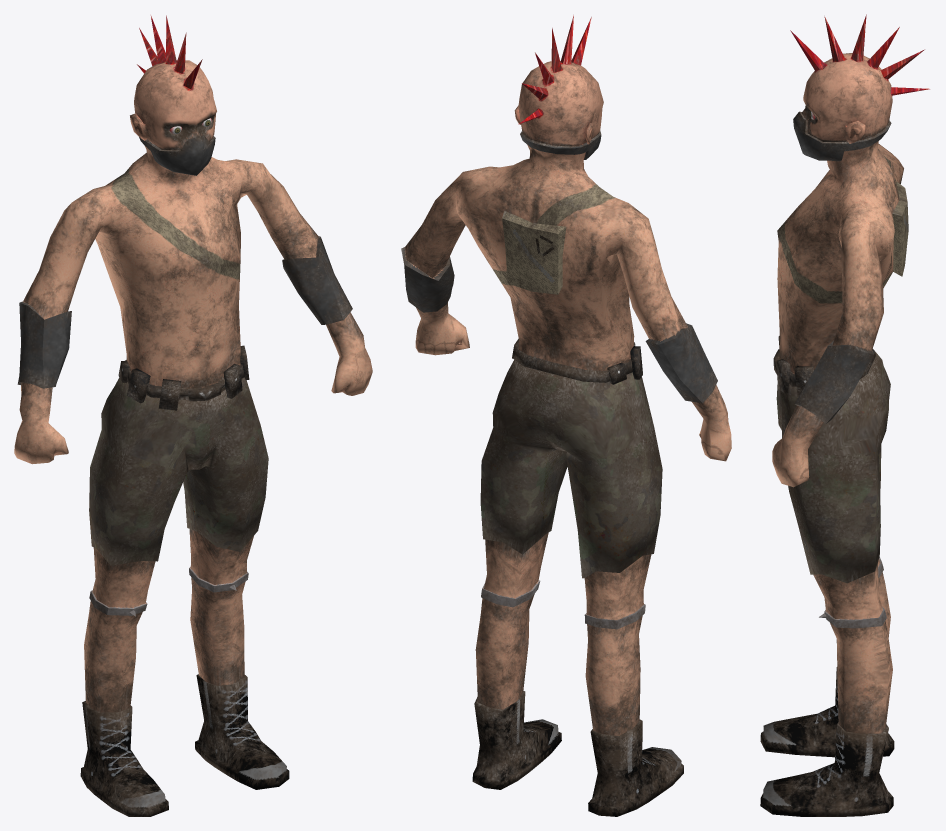
Rendered from Anim_idle_npc2.0033.obj.
3 renders of one model, left to right at view 1: azimuth 30°, elevation 25°; view 2: azimuth 150°, elevation 25°; view 3: azimuth 270°, elevation 25°, orthographic.
Parts seen in each view (by area): view 1: polySurface1; view 2: polySurface1; view 3: polySurface1.
Boxes of the visible parts, box(x1,y1,x2,y2) form: polySurface1: box(14, 15, 372, 816); polySurface1: box(401, 15, 731, 816); polySurface1: box(760, 14, 929, 816).
Size of the model in its own units: 4.72 by 10.18 by 2.06.
2 materials, 2 textured.
